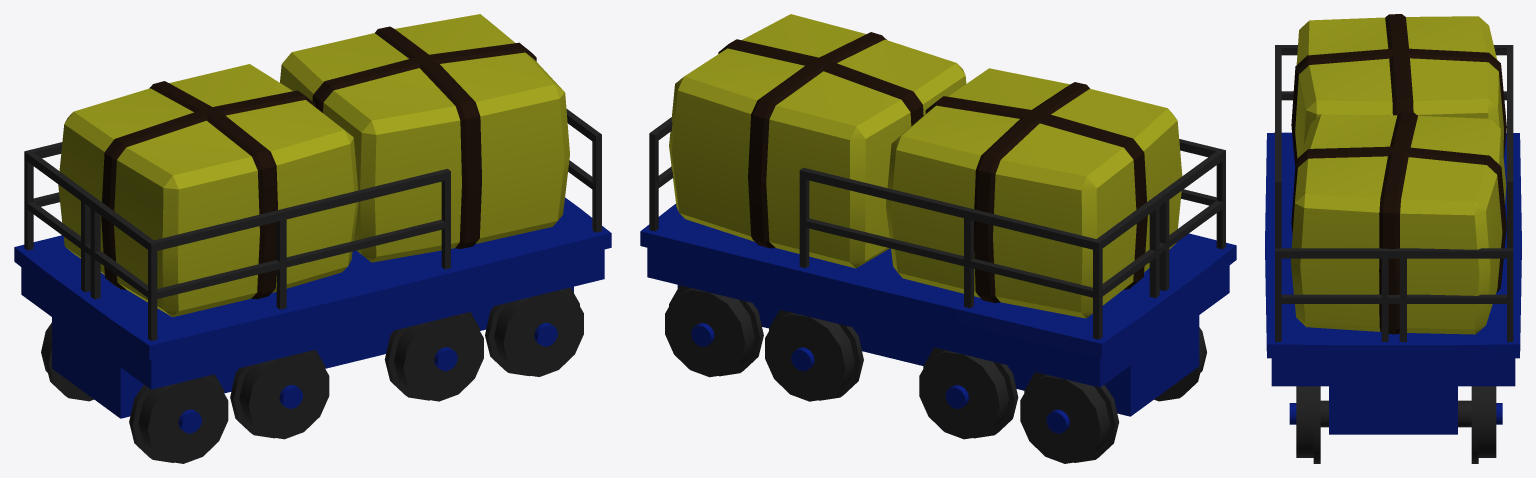
File: train3.FBX
3 views of the same model, side by side, from view 1: azimuth 30°, elevation 25°; view 2: azimuth 150°, elevation 25°; view 3: azimuth 270°, elevation 25° (orthographic). The views are drawn at different scales.
Visible parts, largest first — view 1: Object002; view 2: Object002; view 3: Object002.
Boxes of the visible parts, x1,y1,x2,y2 form: Object002: (14, 14, 611, 463); Object002: (640, 14, 1236, 463); Object002: (1265, 14, 1521, 463).
Size of the model in its own units: 64.79 by 33.02 by 39.69.
